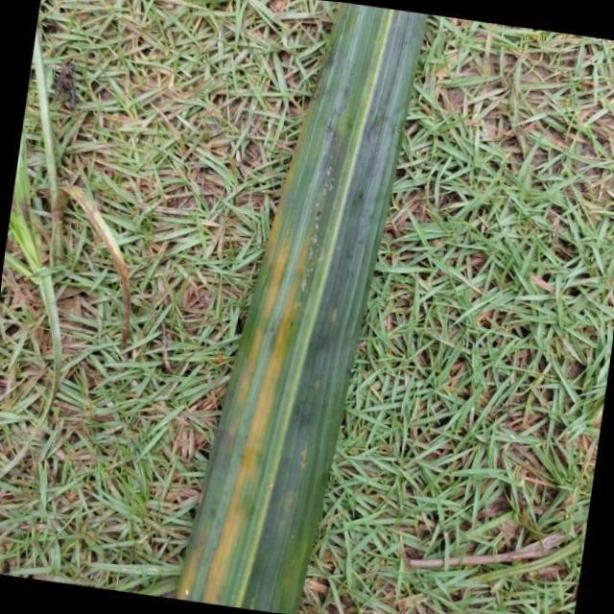Megnesium: (174, 0, 426, 614)
